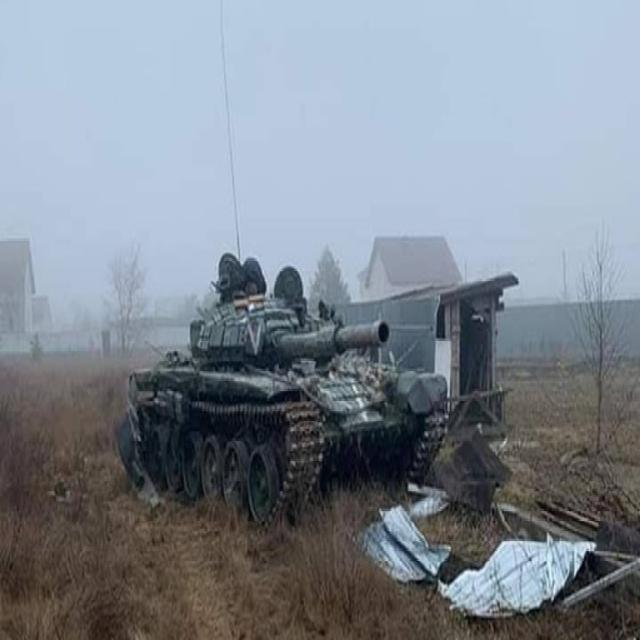TANK: (122, 251, 448, 533)
